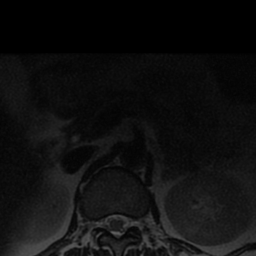CCS_normal: (113, 207, 121, 244)
LFS_stenosis: (130, 209, 138, 234)
LLS_normal: (121, 207, 129, 239)
RFS_stenosis: (92, 211, 103, 235)
RLS_normal: (103, 208, 113, 238)
